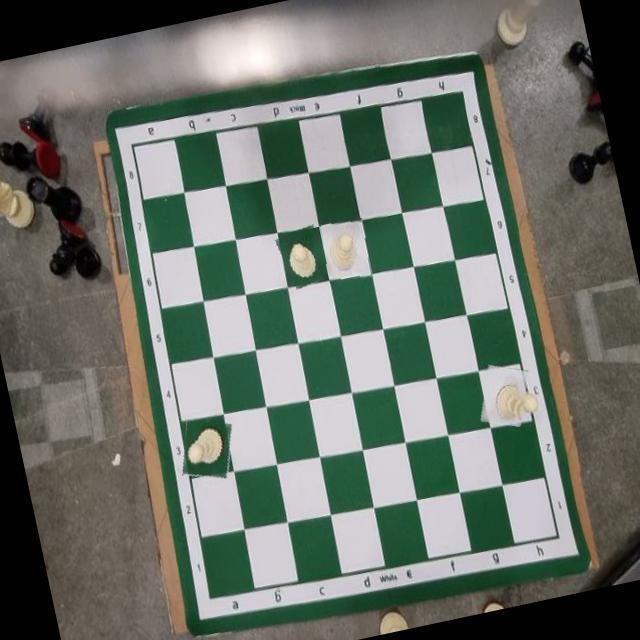chess-table-corners: (448, 72, 486, 115), (540, 514, 572, 552), (122, 122, 148, 164), (204, 574, 219, 616)
